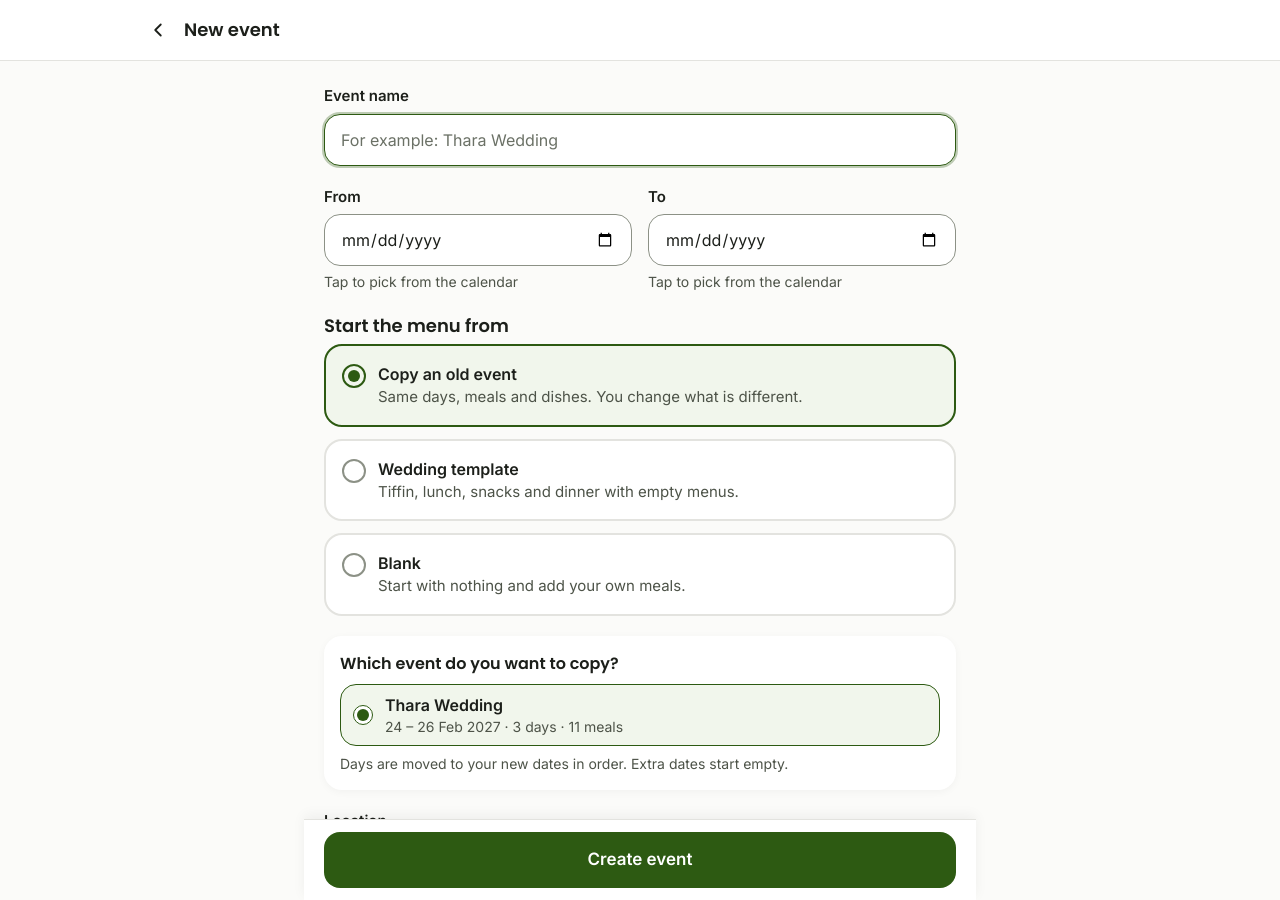
Test: New event › asks for the missing details in plain words
Click the button "Create event". click: (640, 860)
box: left=324, top=832, right=956, bottom=888
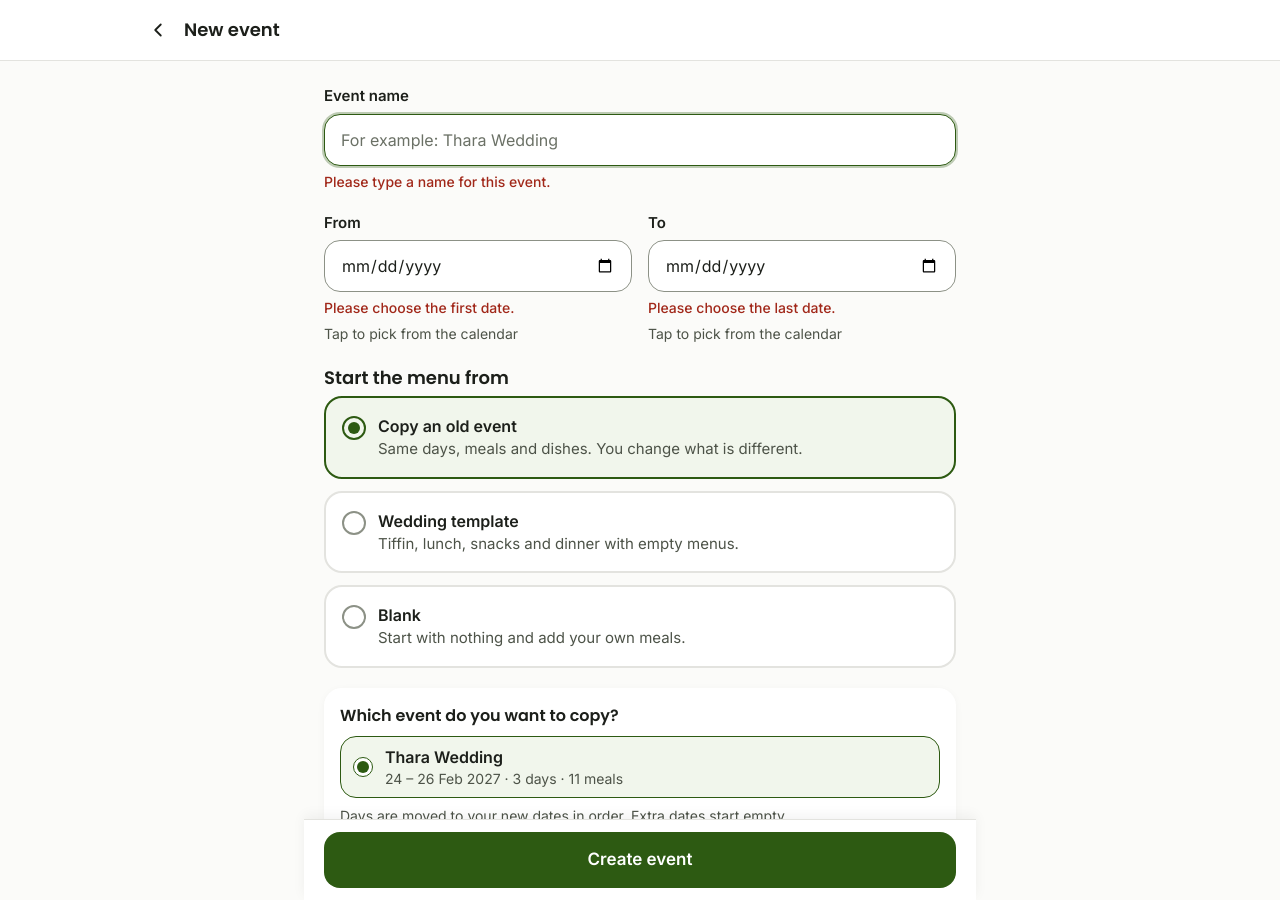
Expected: the text "Please type a name for this event." is shown, left=324, top=172, right=550, bottom=190
Expected: the text "Please choose the first date." is shown, left=324, top=299, right=514, bottom=316
